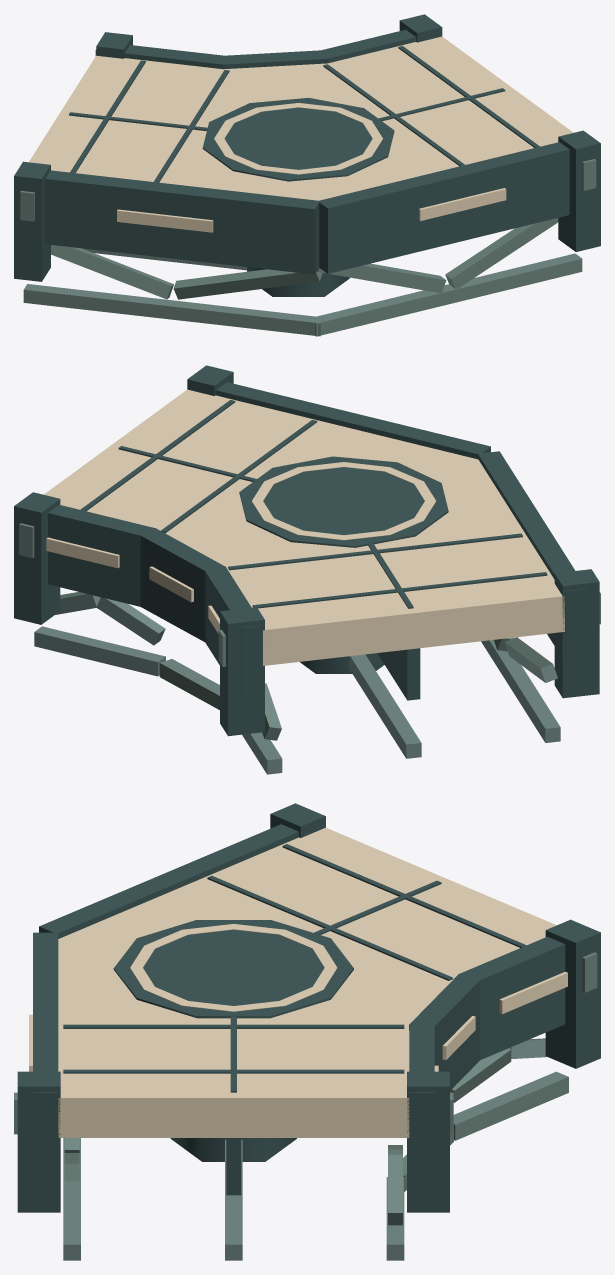
Rendered from Bend_135_lab2.glb.
3 renders of one model, top to bottom at view 1: azimuth 30°, elevation 25°; view 2: azimuth 150°, elevation 25°; view 3: azimuth 270°, elevation 25°, orthographic. The views are drawn at different scales.
Parts seen in each view (by area): view 1: Bend_135; view 2: Bend_135; view 3: Bend_135.
Part boxes in pixels (x1=…): Bend_135: x1=14, y1=14, x2=600, y2=336; Bend_135: x1=14, y1=365, x2=600, y2=774; Bend_135: x1=14, y1=803, x2=600, y2=1260.
Bounding box in the file's own units: 5.32 × 1.58 × 4.65.
